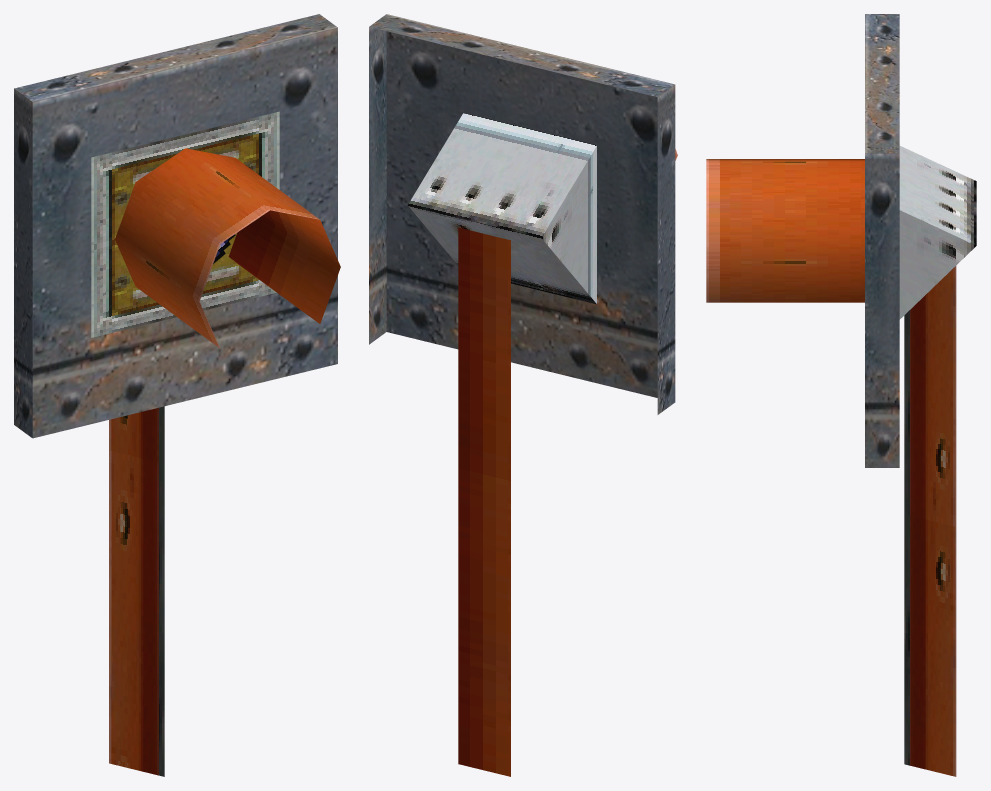
File: TrafficLight.obj
The picture shows the model from 3 angles, left to right: view 1: azimuth 30°, elevation 25°; view 2: azimuth 150°, elevation 25°; view 3: azimuth 270°, elevation 25°; orthographic projection. The views are drawn at different scales.
Visible parts, largest first — view 1: mesh_2_meshId2_name, mesh_1_meshId1_name, mesh_0_meshId0_name; view 2: mesh_2_meshId2_name, mesh_1_meshId1_name, mesh_3_meshId3_name; view 3: mesh_1_meshId1_name, mesh_2_meshId2_name, mesh_3_meshId3_name.
Boxes of the visible parts, x1,y1,x2,y2 form: mesh_2_meshId2_name: [14, 14, 337, 438]; mesh_1_meshId1_name: [109, 148, 340, 776]; mesh_0_meshId0_name: [91, 111, 279, 337]; mesh_2_meshId2_name: [369, 14, 675, 414]; mesh_1_meshId1_name: [458, 149, 677, 776]; mesh_3_meshId3_name: [407, 113, 596, 304]; mesh_1_meshId1_name: [706, 159, 956, 776]; mesh_2_meshId2_name: [865, 14, 899, 467]; mesh_3_meshId3_name: [899, 146, 976, 319].
Bounding box in the file's own units: 19 × 43.25 × 15.58.
